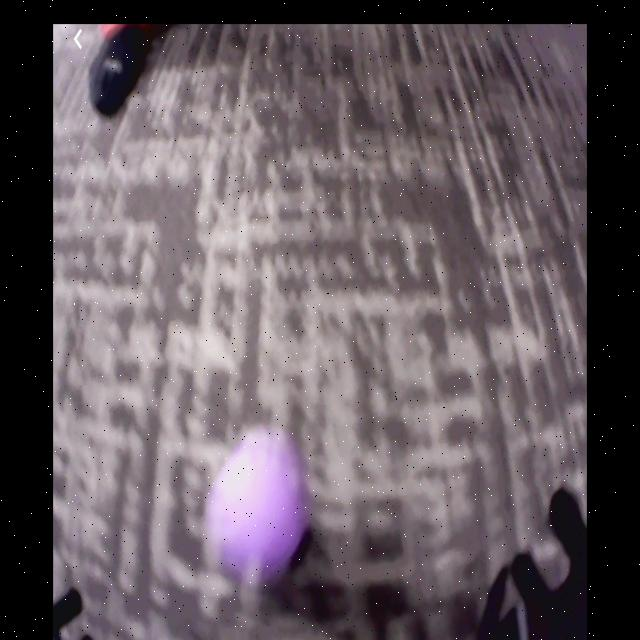ball: (212, 442, 302, 577)
